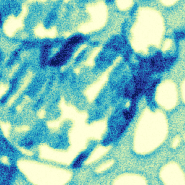hole_empty: (128, 6, 167, 57), (12, 155, 78, 185), (127, 107, 168, 155), (154, 75, 180, 113), (157, 157, 185, 185), (109, 169, 152, 185), (169, 131, 183, 151)
hole_filled: (0, 41, 139, 167)
